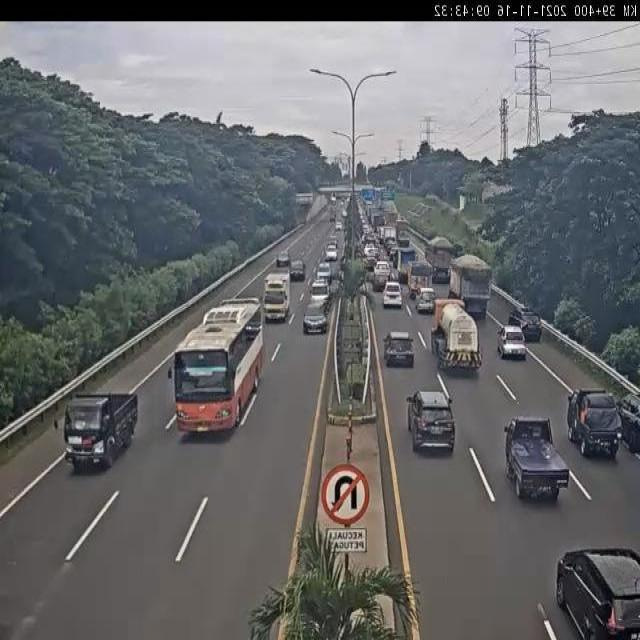Bus: (168, 297, 264, 441)
Car: (553, 546, 640, 640), (406, 388, 457, 453), (616, 389, 640, 448), (507, 306, 541, 340), (382, 332, 415, 367), (497, 326, 526, 359), (303, 302, 328, 334), (382, 281, 404, 309), (416, 288, 436, 311), (289, 258, 307, 281), (316, 262, 333, 282), (325, 243, 337, 262), (277, 248, 289, 266)
Truck: (55, 389, 139, 475), (503, 415, 570, 500), (568, 386, 622, 459), (431, 297, 482, 371), (448, 252, 494, 322), (424, 234, 455, 282), (263, 271, 290, 320), (406, 258, 434, 299), (397, 246, 417, 281), (380, 226, 397, 245), (395, 218, 409, 234), (370, 212, 383, 227), (386, 210, 398, 222)
